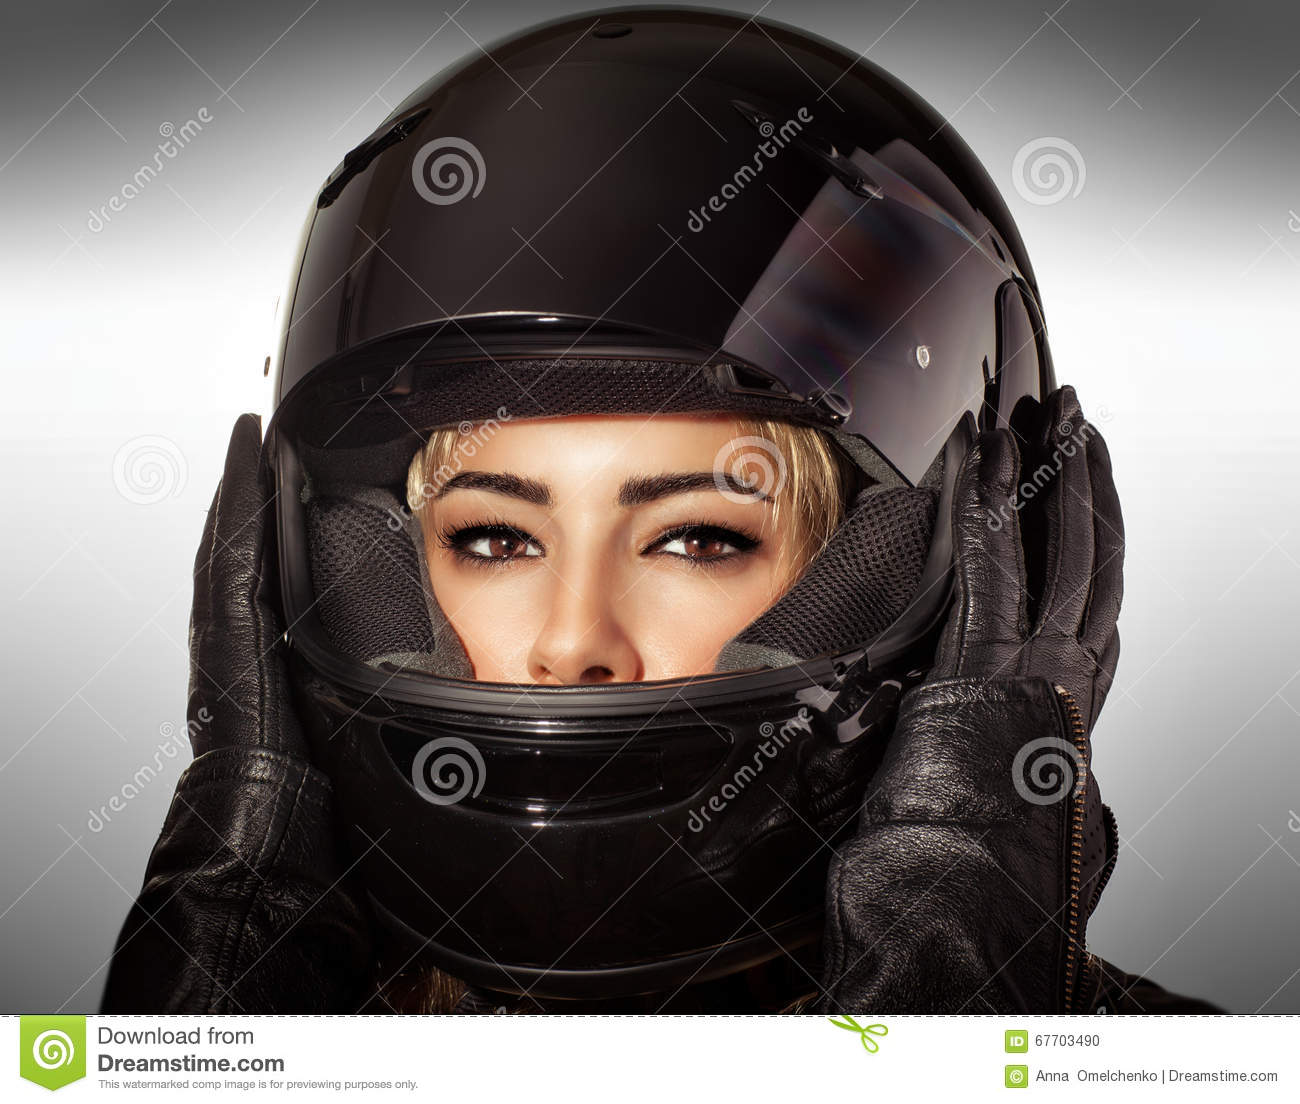helmet: (229, 64, 1075, 944)
